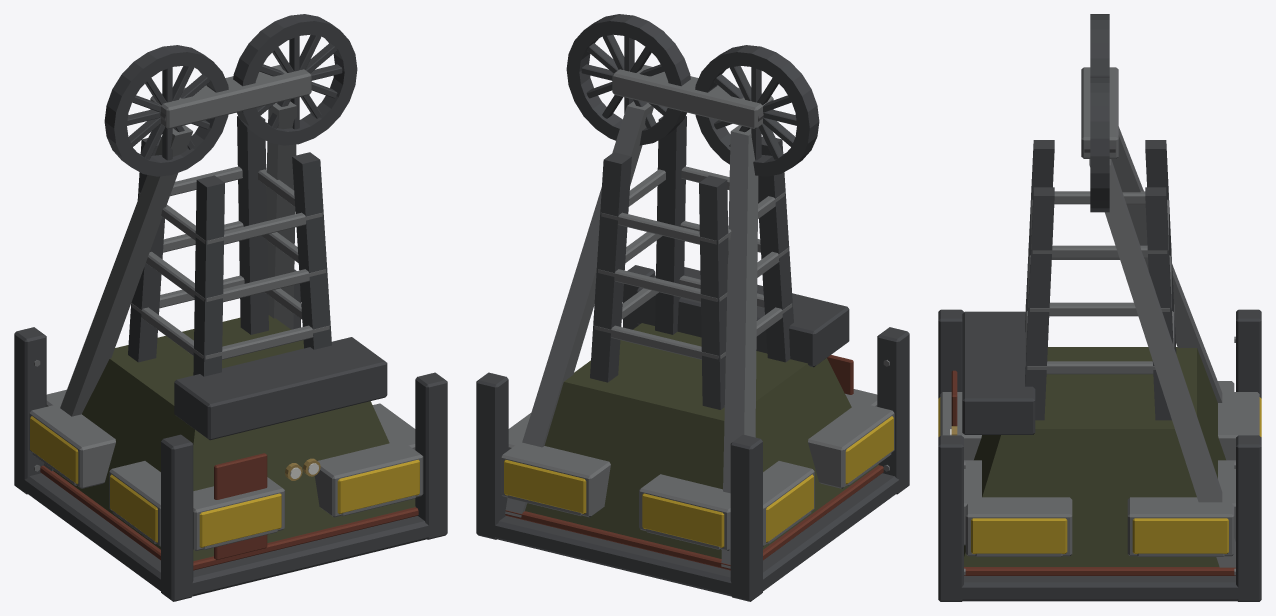
File: coal_miner_mk1.glb
3 views of the same model, side by side, from view 1: azimuth 30°, elevation 25°; view 2: azimuth 150°, elevation 25°; view 3: azimuth 270°, elevation 25° (orthographic).
Parts seen in each view (by area): view 1: coal_miner_mk1_CastIron, coal_miner_mk1_WeldedSteel, coal_miner_mk1_OliveDrab, coal_miner_mk1_HazardYellow, coal_miner_mk1_OxideRed; view 2: coal_miner_mk1_CastIron, coal_miner_mk1_WeldedSteel, coal_miner_mk1_OliveDrab, coal_miner_mk1_HazardYellow, coal_miner_mk1_OxideRed; view 3: coal_miner_mk1_CastIron, coal_miner_mk1_OliveDrab, coal_miner_mk1_WeldedSteel, coal_miner_mk1_HazardYellow, coal_miner_mk1_OxideRed.
Part boxes in pixels (x1,y1,x2,y2): coal_miner_mk1_CastIron: (14, 14, 447, 601); coal_miner_mk1_WeldedSteel: (29, 65, 423, 550); coal_miner_mk1_OliveDrab: (53, 315, 415, 561); coal_miner_mk1_HazardYellow: (30, 416, 419, 547); coal_miner_mk1_OxideRed: (40, 453, 418, 570); coal_miner_mk1_CastIron: (476, 14, 909, 601); coal_miner_mk1_WeldedSteel: (500, 65, 894, 568); coal_miner_mk1_OliveDrab: (525, 323, 878, 558); coal_miner_mk1_HazardYellow: (504, 416, 893, 547); coal_miner_mk1_OxideRed: (505, 355, 883, 570); coal_miner_mk1_CastIron: (938, 14, 1261, 601); coal_miner_mk1_OliveDrab: (964, 347, 1225, 566); coal_miner_mk1_WeldedSteel: (940, 67, 1259, 575); coal_miner_mk1_HazardYellow: (938, 397, 1261, 553); coal_miner_mk1_OxideRed: (951, 370, 1235, 575).
Size of the model in its own units: 4 by 6.59 by 4.
